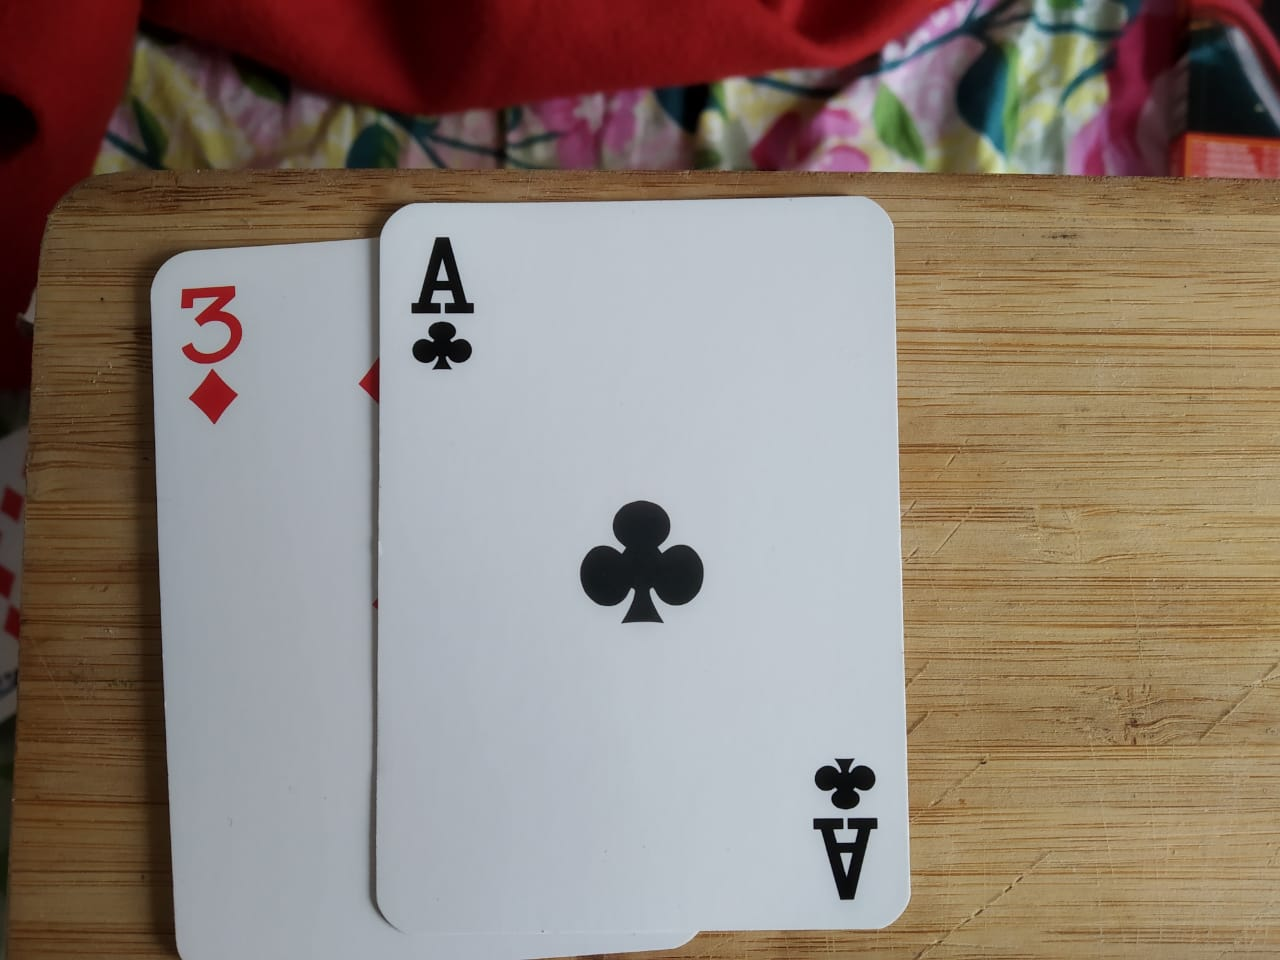ace: (369, 184, 914, 939)
three: (124, 209, 724, 958)
